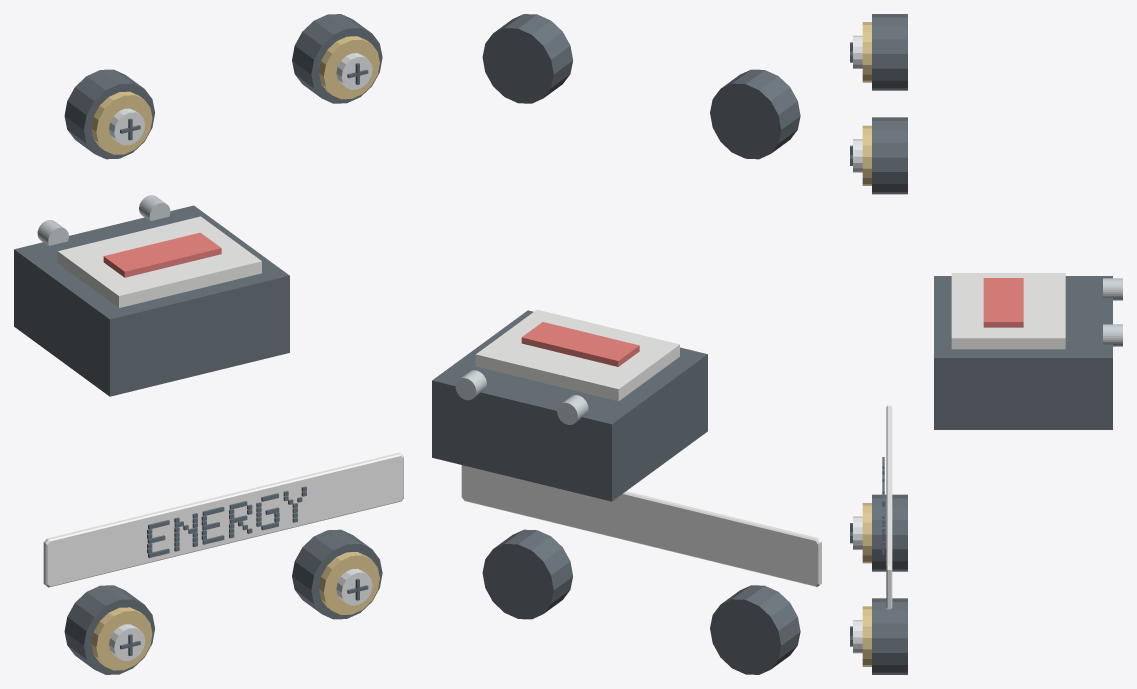
The model's file is digitalCounter.glb.
The picture shows the model from 3 angles, left to right: view 1: azimuth 30°, elevation 25°; view 2: azimuth 150°, elevation 25°; view 3: azimuth 270°, elevation 25°; orthographic projection. The views are drawn at different scales.
Parts seen in each view (by area): view 1: digitalCounter-preview; view 2: digitalCounter-preview; view 3: digitalCounter-preview.
Boxes of the visible parts, bbox=[...] form: digitalCounter-preview: bbox=[14, 14, 403, 674]; digitalCounter-preview: bbox=[432, 14, 821, 674]; digitalCounter-preview: bbox=[850, 14, 1122, 674].
Bounding box in the file's own units: 1.58 × 2.48 × 1.11.
